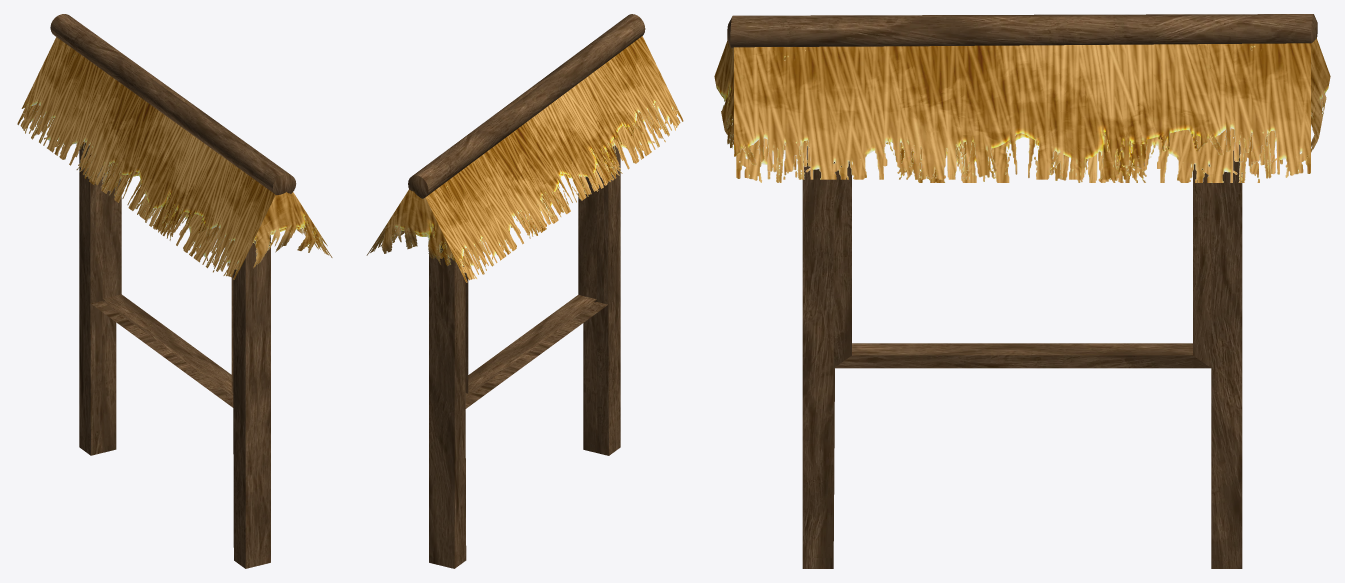
Rendered from informative-panel01.glb.
3 views of the same model, side by side, from view 1: azimuth 30°, elevation 25°; view 2: azimuth 150°, elevation 25°; view 3: azimuth 270°, elevation 25° (orthographic). The views are drawn at different scales.
Visible parts, largest first — view 1: InformativePanel01; view 2: InformativePanel01; view 3: InformativePanel01.
Part boxes in pixels (box(x1,y1,x2,y2)): InformativePanel01: box(17, 14, 332, 568); InformativePanel01: box(366, 14, 683, 568); InformativePanel01: box(714, 14, 1330, 568).
Bounding box in the file's own units: 1.73 × 6.58 × 6.76.
Materials: 2 (2 with a texture image).
